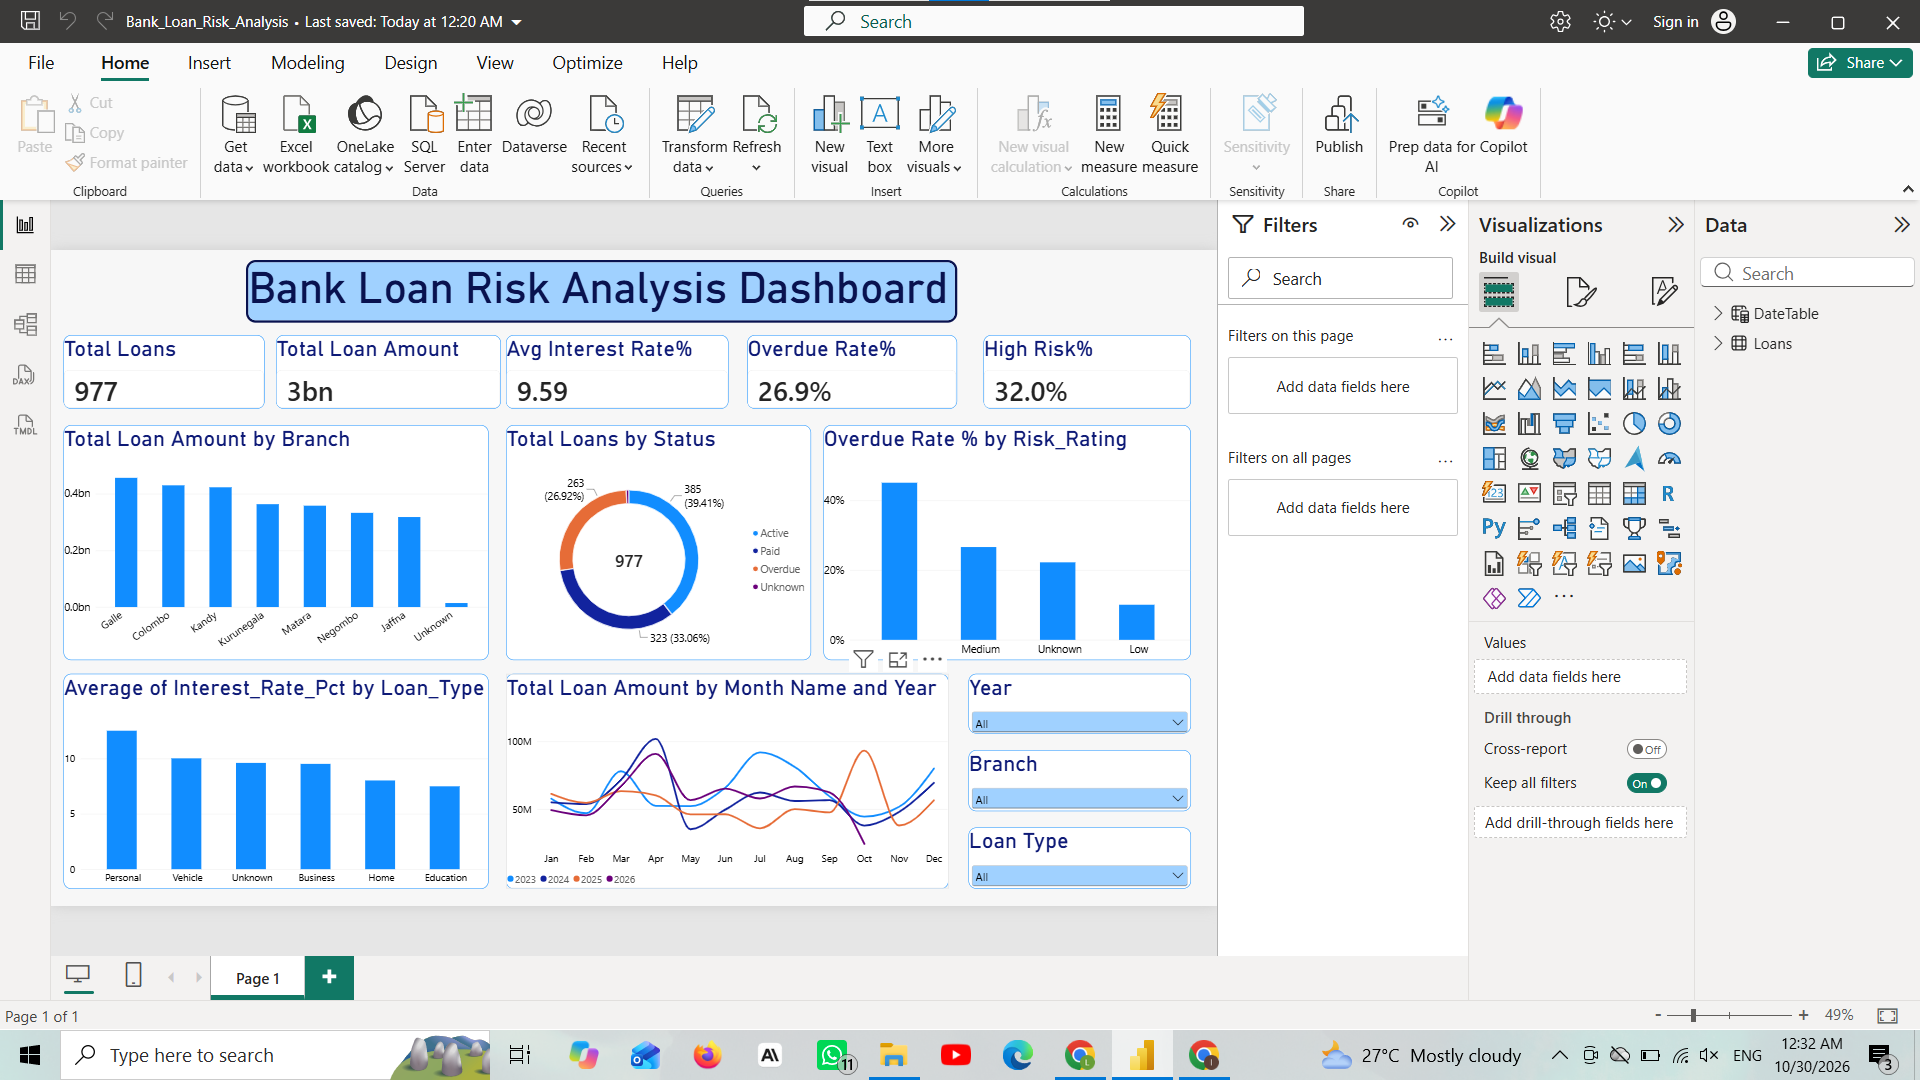

The dashboard page shown, as its layout file describes it:
{"tool":"powerbi","page":{"name":"Page 1","canvas":[1920,1080],"ordinal":0},"visuals":[{"type":"cardVisual","title":"Total Loans","fields":{"Data":["Loans.Total Loans"]},"box":[20.6,140,331.4,121.4],"z":0},{"type":"cardVisual","title":"Total Loan Amount","fields":{"Data":["Loans.Total Loan Amount"]},"box":[370.5,140,370.5,121.4],"z":1000},{"type":"cardVisual","title":"Avg Interest Rate%","fields":{"Data":["Avg(Loans.Interest_Rate_Pct)"]},"box":[749.2,140,366.4,121.4],"z":2000},{"type":"cardVisual","title":"Overdue Rate%","fields":{"Data":["Loans.Overdue Rate %"]},"box":[1146.5,140,345.8,121.4],"z":3000},{"type":"cardVisual","title":"High Risk%","fields":{"Data":["Loans.High Risk %"]},"box":[1535.5,140,341.7,121.4],"z":4000},{"type":"textbox","box":[21,352,331,150],"z":5000},{"type":"textbox","title":"Bank Loan Risk Analysis Dashboard","box":[321.1,16.5,1171.2,102.9],"z":6000},{"type":"clusteredColumnChart","title":"Total Loan Amount by Branch","fields":{"Category":["Loans.Branch"],"Y":["Loans.Total Loan Amount"]},"box":[20.6,288.2,699.8,387],"z":6001},{"type":"donutChart","title":"Total Loans by Status","fields":{"Category":["Loans.Status"],"Y":["Loans.Total Loans"]},"box":[749.2,288.2,502.2,387],"z":6002},{"type":"clusteredColumnChart","fields":{"Category":["Loans.Risk_Rating"],"Y":["Loans.Overdue Rate %"]},"box":[1272,288.2,605.1,387],"z":6003},{"type":"clusteredColumnChart","fields":{"Category":["Loans.Loan_Type"],"Y":["Avg(Loans.Interest_Rate_Pct)"]},"box":[20.6,697.8,700,354],"z":6004},{"type":"lineChart","fields":{"Category":["DateTable.Month Name"],"Series":["DateTable.Year"],"Y":["Loans.Total Loan Amount"]},"box":[749.2,697.8,728.6,354],"z":6005},{"type":"slicer","title":"Year ","fields":{"Values":["DateTable.Year"]},"box":[1510.8,697.8,366.4,98.8],"z":6006},{"type":"slicer","title":"Branch","fields":{"Values":["Loans.Branch"]},"box":[1510.8,823.3,366.4,100.9],"z":6007},{"type":"slicer","title":"Loan Type","fields":{"Values":["Loans.Loan_Type"]},"box":[1510.8,950.9,366.4,100.9],"z":6008}]}

Visuals, with their boxes on the page's 1920x1080 design canvas (x1, y1, x2, y2). These are canvas units, not pixel positions in the 1920x1080 screenshot, which may show the page scaled, cropped or inside an application window:
"Total Loans" cardVisual: 21 140 352 261
"Total Loan Amount" cardVisual: 370 140 741 261
"Avg Interest Rate%" cardVisual: 749 140 1116 261
"Overdue Rate%" cardVisual: 1146 140 1492 261
"High Risk%" cardVisual: 1536 140 1877 261
textbox: 21 352 352 502
"Bank Loan Risk Analysis Dashboard" textbox: 321 16 1492 119
"Total Loan Amount by Branch" clusteredColumnChart: 21 288 720 675
"Total Loans by Status" donutChart: 749 288 1251 675
clusteredColumnChart - Loans.Risk_Rating x Loans.Overdue Rate %: 1272 288 1877 675
clusteredColumnChart - Loans.Loan_Type x Avg(Loans.Interest_Rate_Pct): 21 698 721 1052
lineChart - DateTable.Month Name x DateTable.Year: 749 698 1478 1052
"Year " slicer: 1511 698 1877 797
"Branch" slicer: 1511 823 1877 924
"Loan Type" slicer: 1511 951 1877 1052
